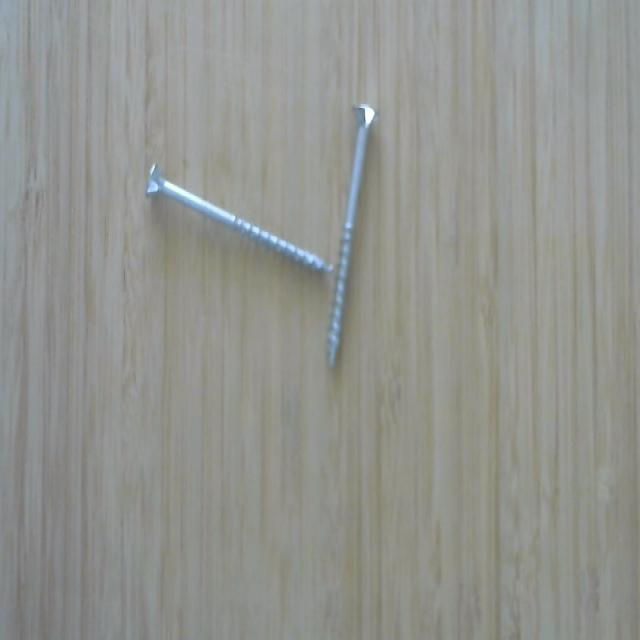Long screw: (143, 157, 335, 279), (320, 94, 383, 372)
